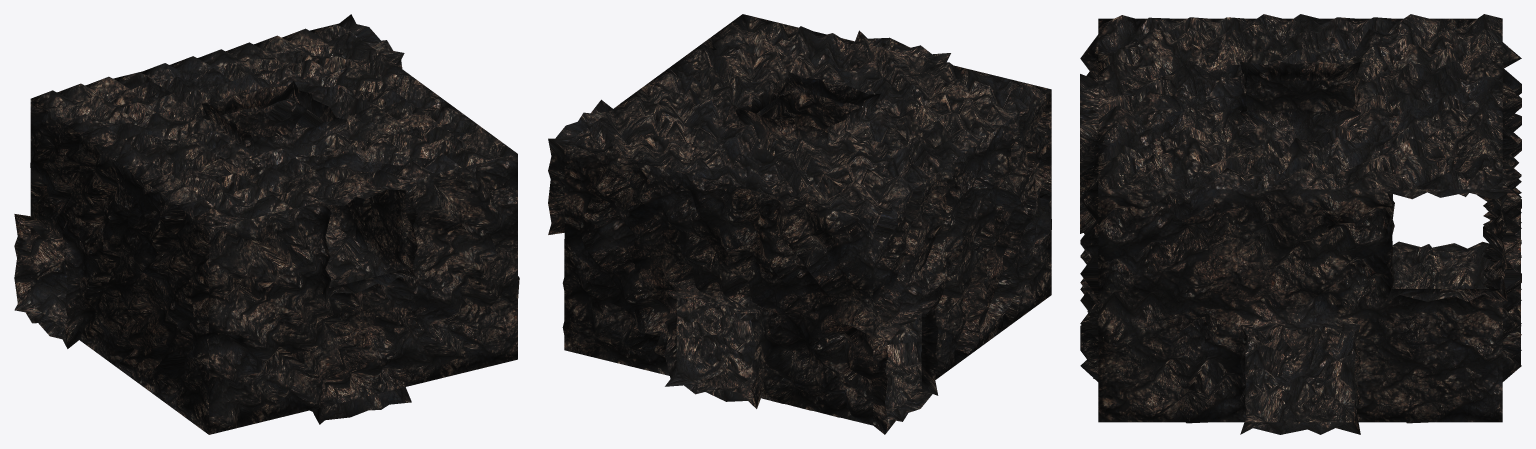
File: Level Piece - Big Room.FBX
3 views of the same model, side by side, from view 1: azimuth 30°, elevation 25°; view 2: azimuth 150°, elevation 25°; view 3: azimuth 270°, elevation 25° (orthographic). The views are drawn at different scales.
Parts seen in each view (by area): view 1: Big Room; view 2: Big Room; view 3: Big Room.
Part boxes in pixels (x1=…): Big Room: x1=14, y1=14, x2=519, y2=434; Big Room: x1=548, y1=14, x2=1051, y2=434; Big Room: x1=1080, y1=14, x2=1521, y2=434.
Size of the model in its own units: 773 by 764 by 516.
1 material, 1 textured.
